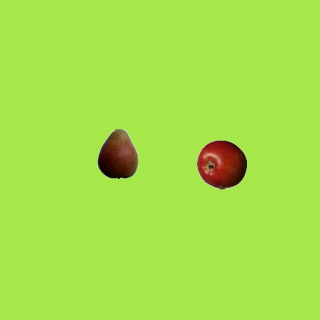Apple Braeburn: (196, 139, 246, 189)
Pear Forelle: (92, 128, 142, 178)
